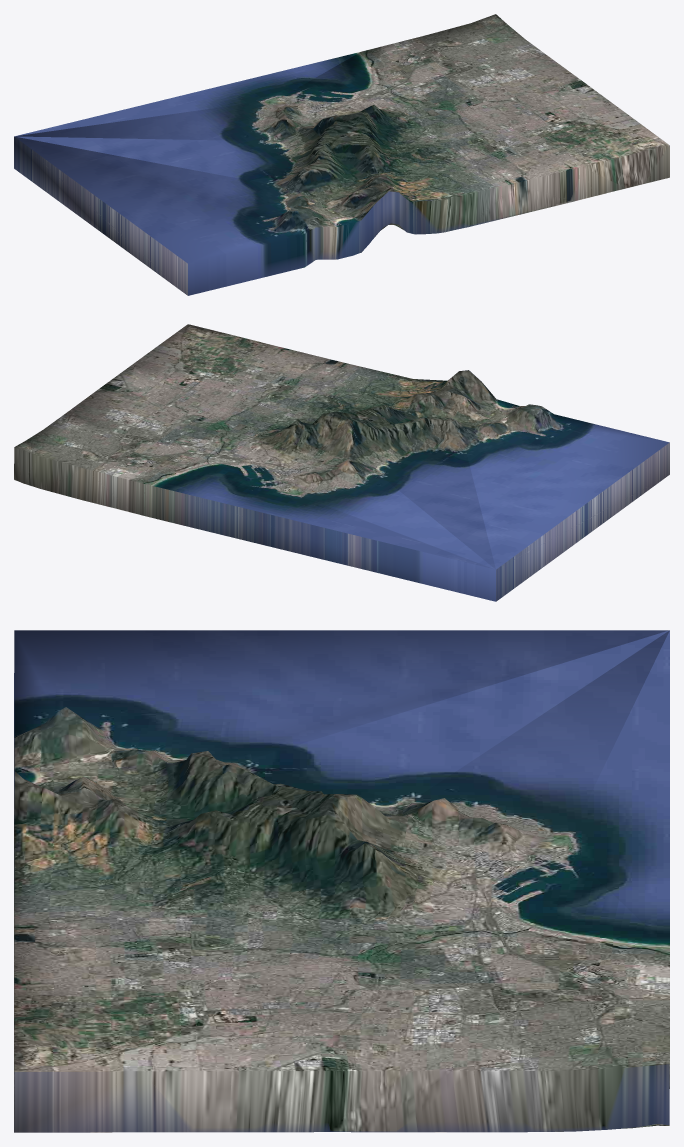
The model's file is tablemountain_optimisedweb.glb.
3 renders of one model, top to bottom at view 1: azimuth 30°, elevation 25°; view 2: azimuth 150°, elevation 25°; view 3: azimuth 270°, elevation 25°, orthographic. The views are drawn at different scales.
Parts seen in each view (by area): view 1: EXPORT_GOOGLE_SAT_WM; view 2: EXPORT_GOOGLE_SAT_WM; view 3: EXPORT_GOOGLE_SAT_WM.
Part boxes in pixels (x1,y1,x2,y2): EXPORT_GOOGLE_SAT_WM: [14, 14, 669, 295]; EXPORT_GOOGLE_SAT_WM: [14, 324, 669, 601]; EXPORT_GOOGLE_SAT_WM: [14, 630, 669, 1132].
Size of the model in its own units: 39.16 by 4.66 by 24.47.
Materials: 1 (1 with a texture image).
